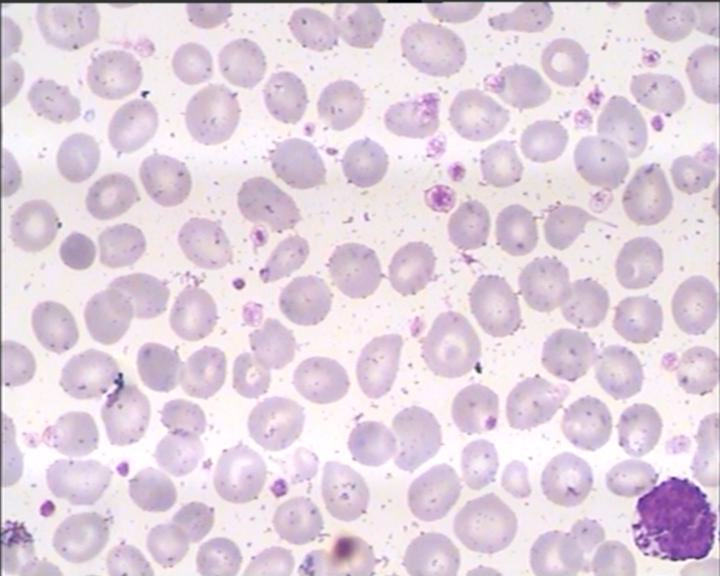baso: (628, 475, 720, 566)
